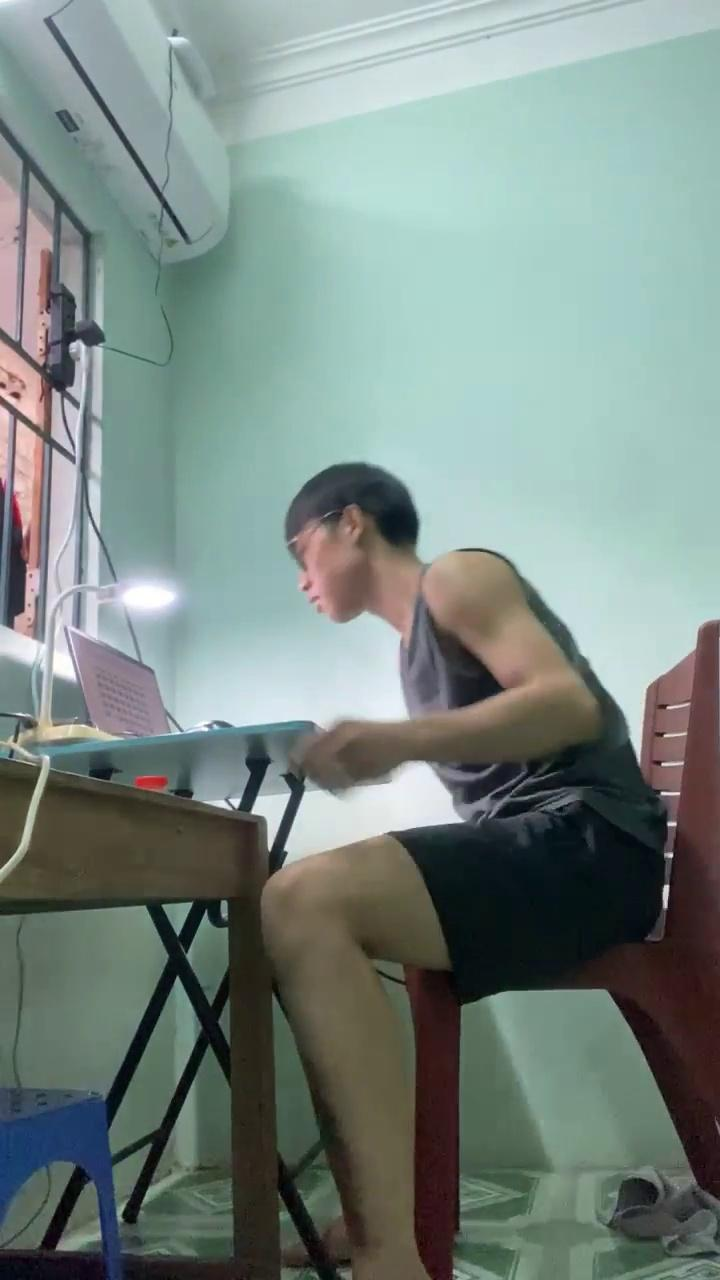BadPosture: (262, 463, 665, 1279)
